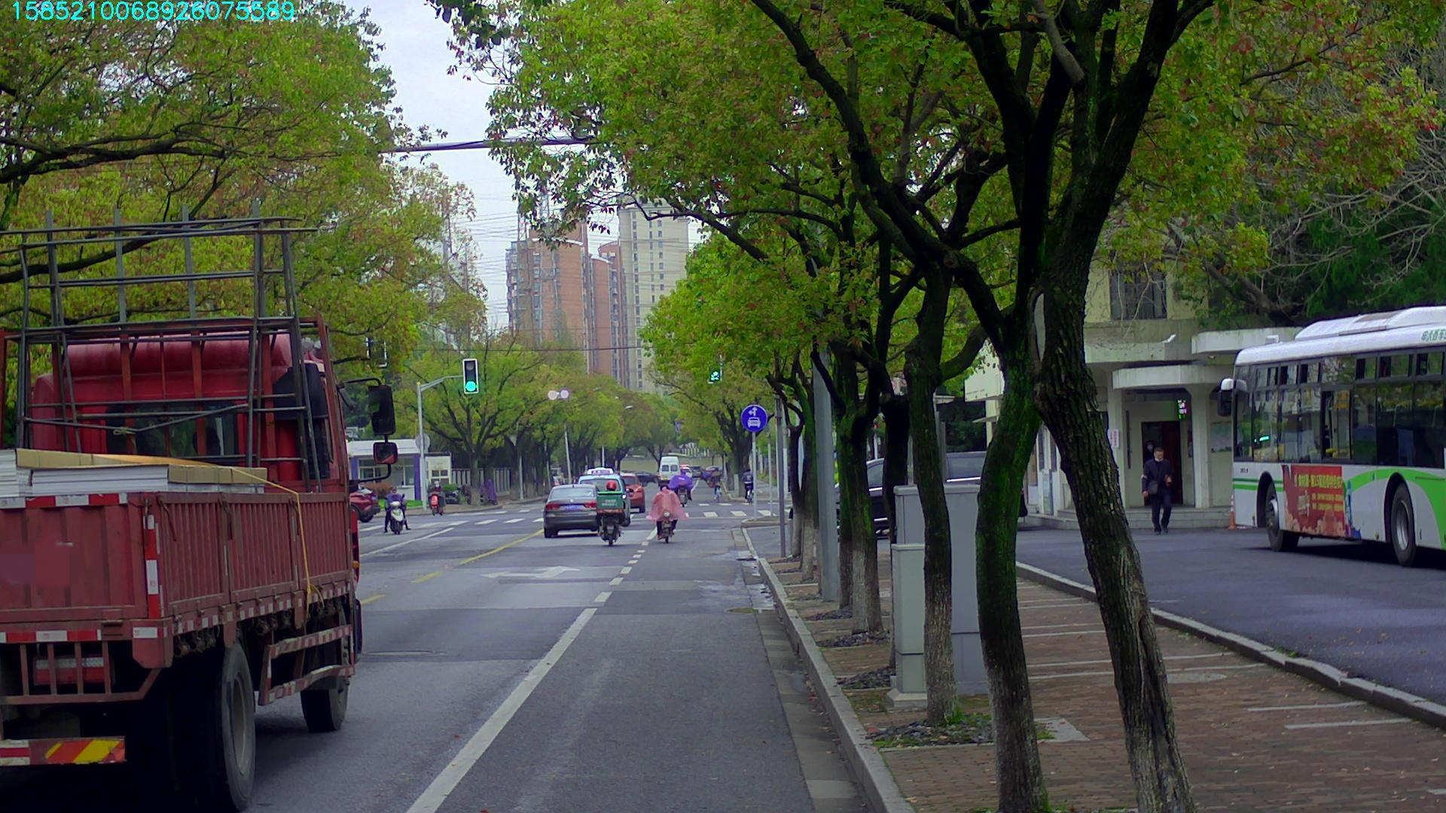green: (463, 358, 477, 392), (708, 349, 720, 382)
